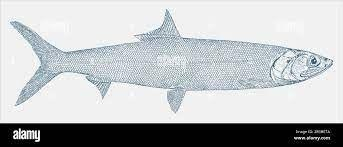Tenpounder: (9, 8, 333, 110)
